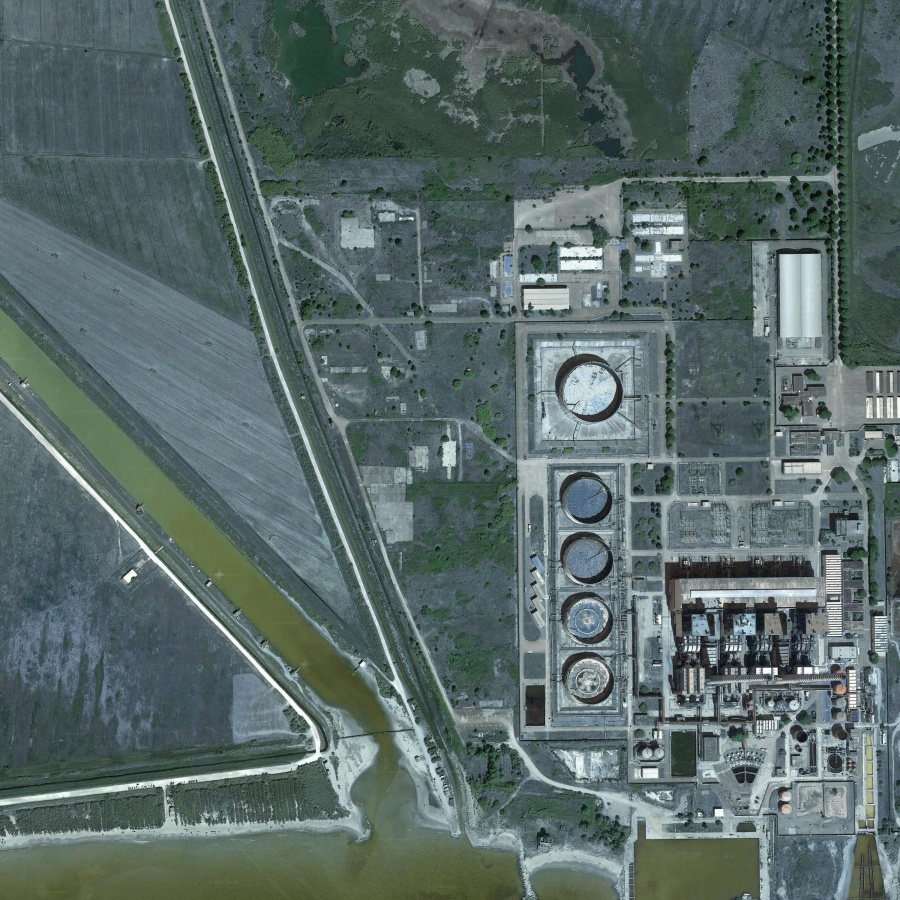PowerPlant: (512, 322, 662, 738)
